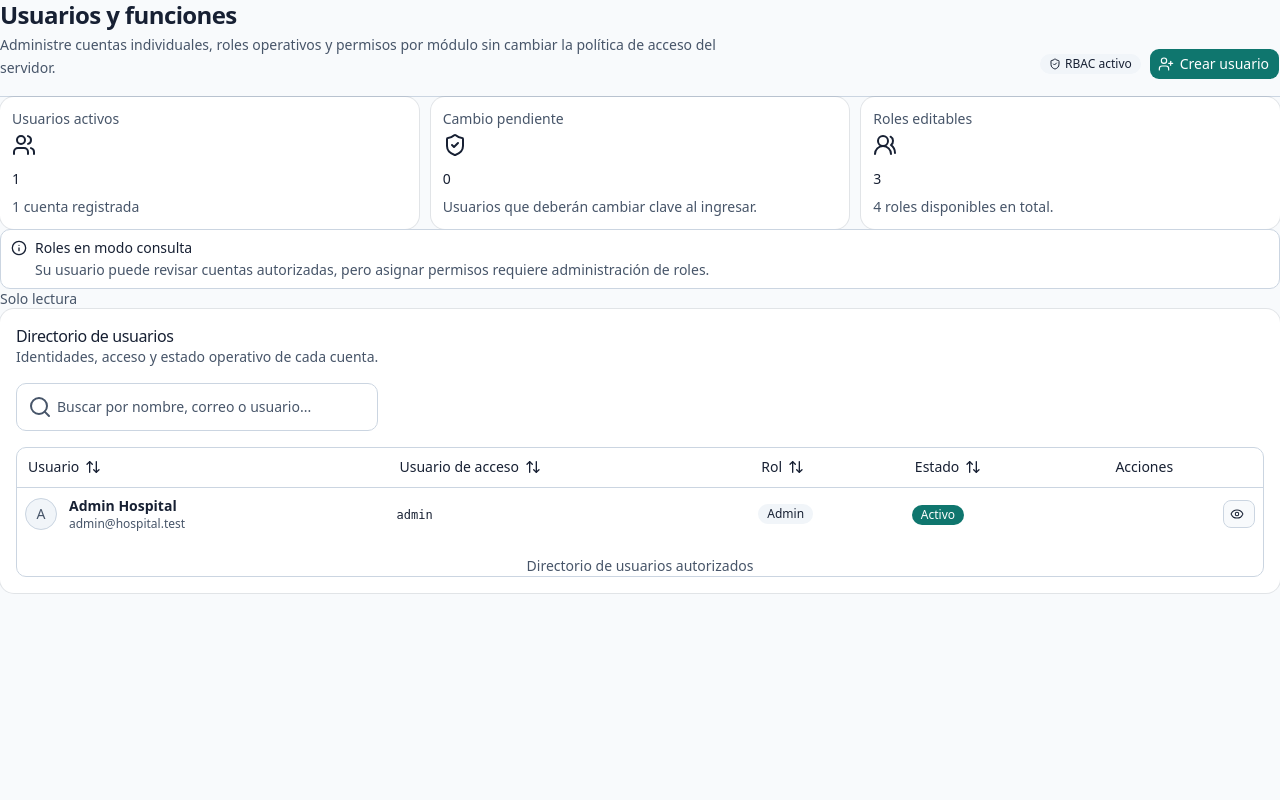
UsersView › loads operational roles from the API instead of hardcoding only default roles
What coordinates should you click on to do the following:
click the button "Crear usuario"
I would click on:
 (1214, 64)
Its box is left=1149, top=48, right=1279, bottom=80.
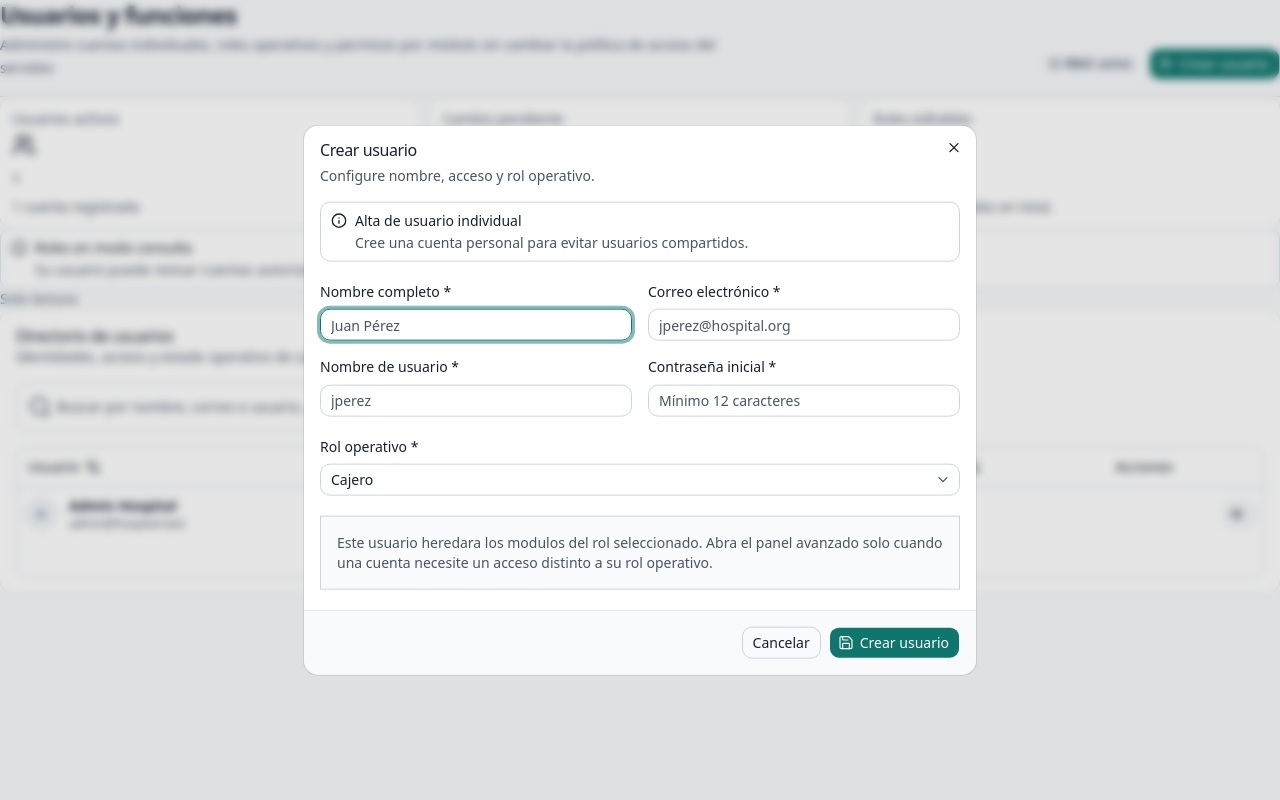
What coordinates should you click on to do the following:
click the dropdown named "rol operativo"
I would click on:
 (352, 479)
Its box is left=320, top=463, right=960, bottom=495.
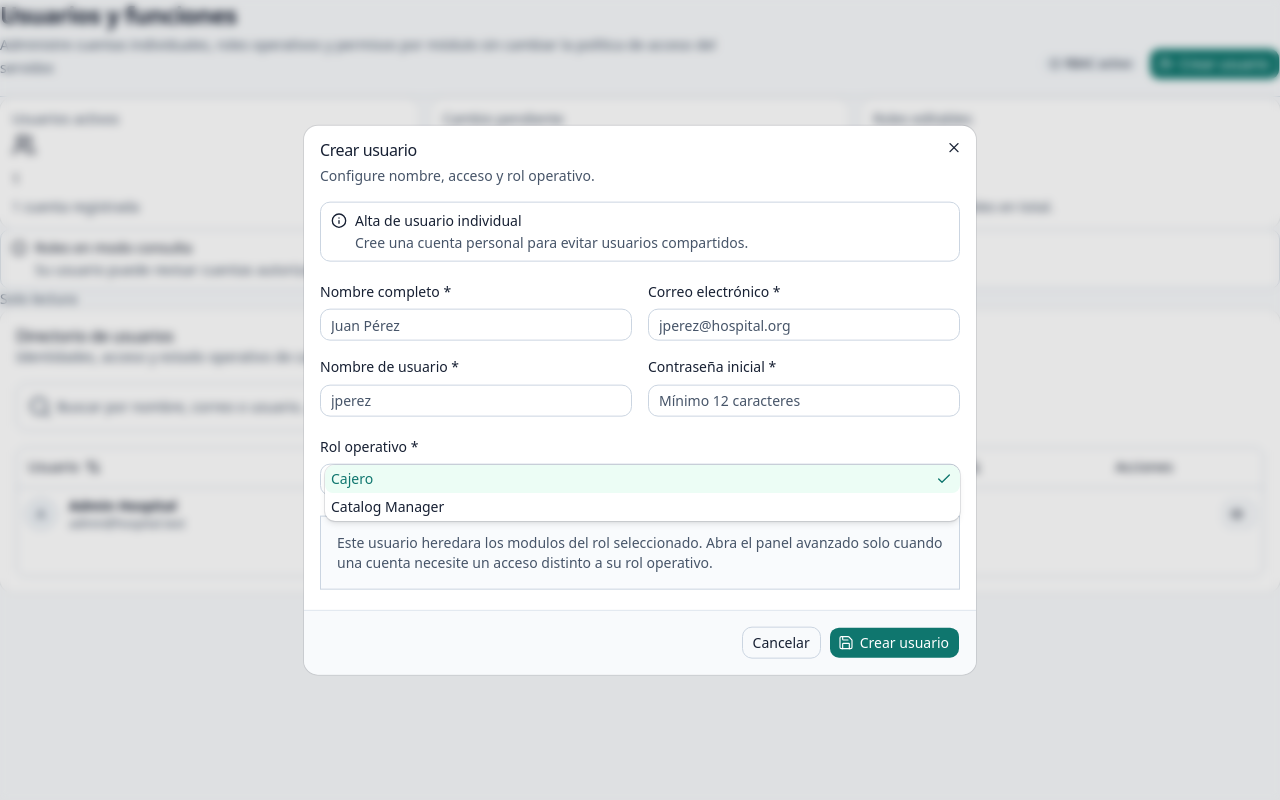
Expected: the option "Catalog Manager" is shown, left=331, top=497, right=444, bottom=516
